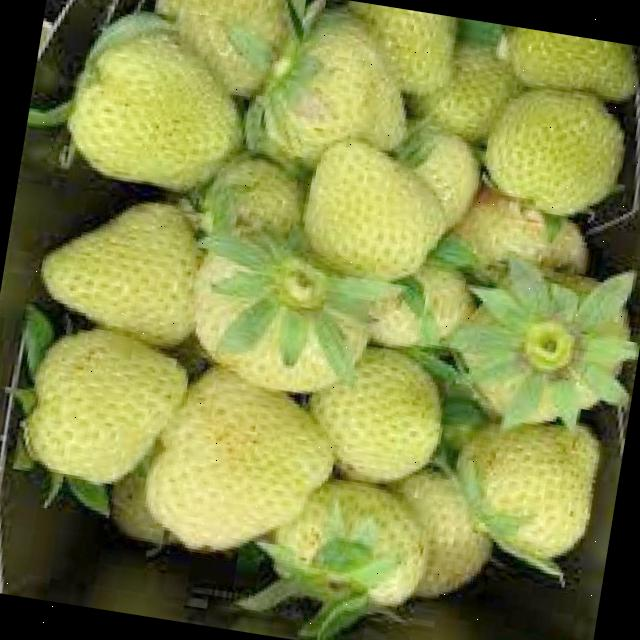strawberry: (136, 359, 344, 566), (61, 15, 254, 196), (188, 227, 382, 400), (15, 316, 194, 492), (453, 270, 640, 429), (34, 186, 213, 347), (253, 4, 422, 174), (444, 404, 604, 568), (266, 471, 433, 620), (296, 136, 457, 290), (298, 336, 452, 491), (476, 80, 630, 222)
